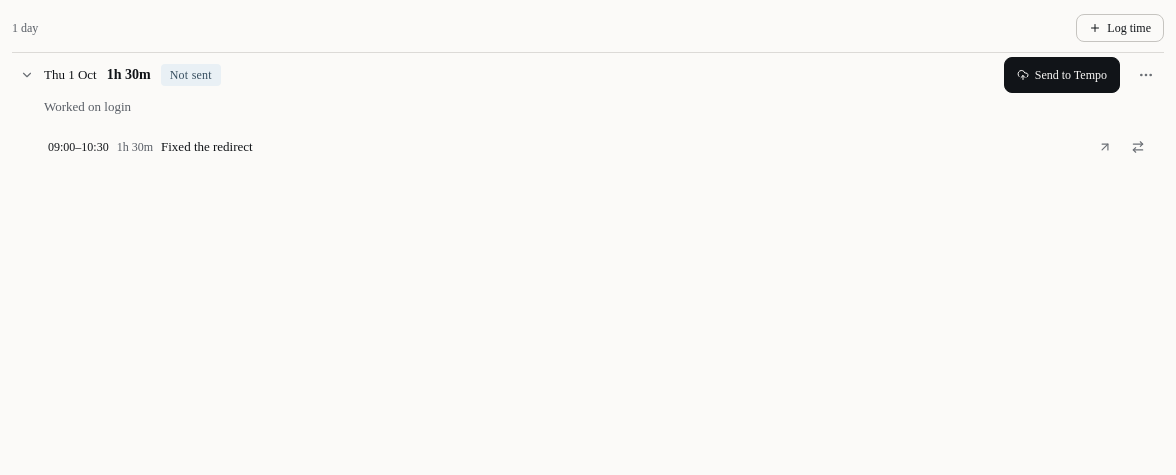
log form › shows the chosen day in words
This screenshot has width=1176, height=475.
Step 1. Click the button "Log time" → click(1120, 28), box [1076,14,1164,42]
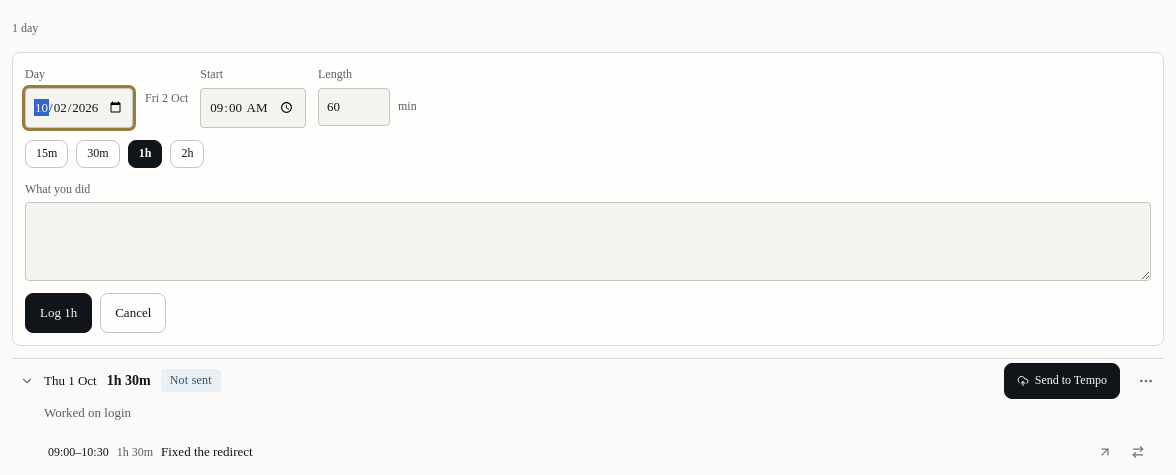
Result: the text "Fri 2 Oct" is shown at [145,89,188,108]
Step 2. Type "2026-10-01" into the date field labelled "Day" → (79, 108), box [25,88,133,128]
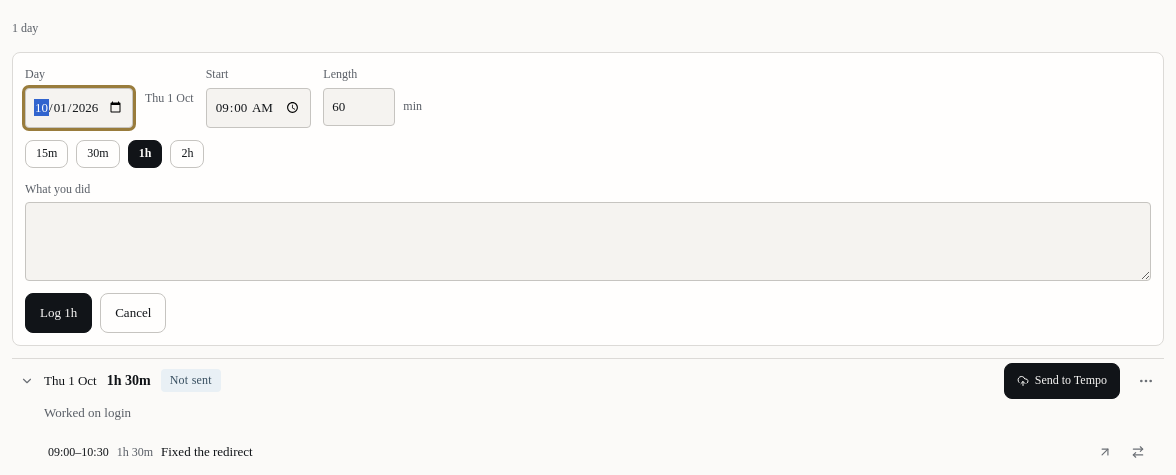
Result: the text "Thu 1 Oct" in the row of "min" is shown at [145,91,194,105]
